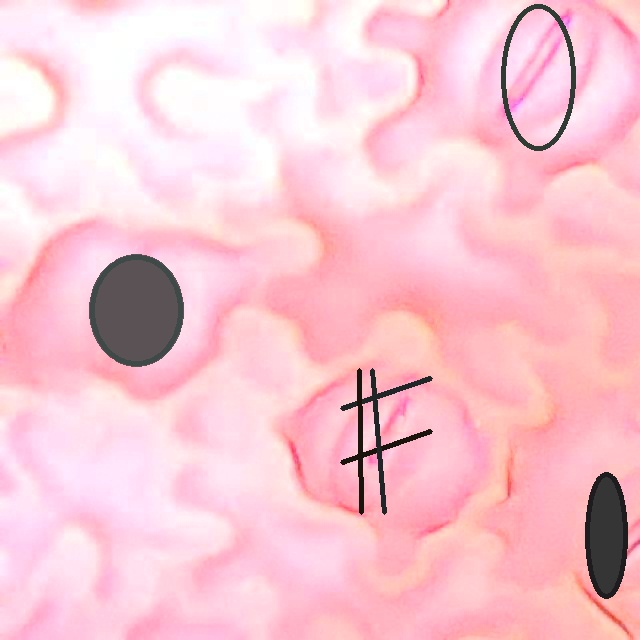close: (89, 254, 183, 367)
open: (340, 369, 431, 513), (500, 3, 577, 151), (585, 472, 627, 598)
